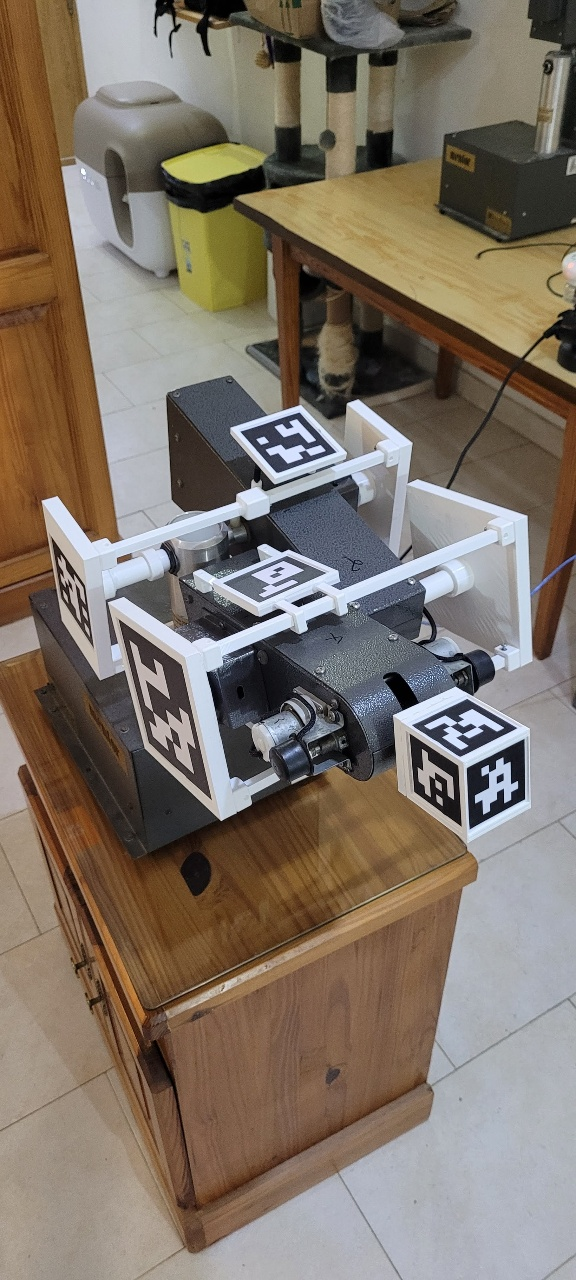Robot: (76, 153, 576, 1137)
